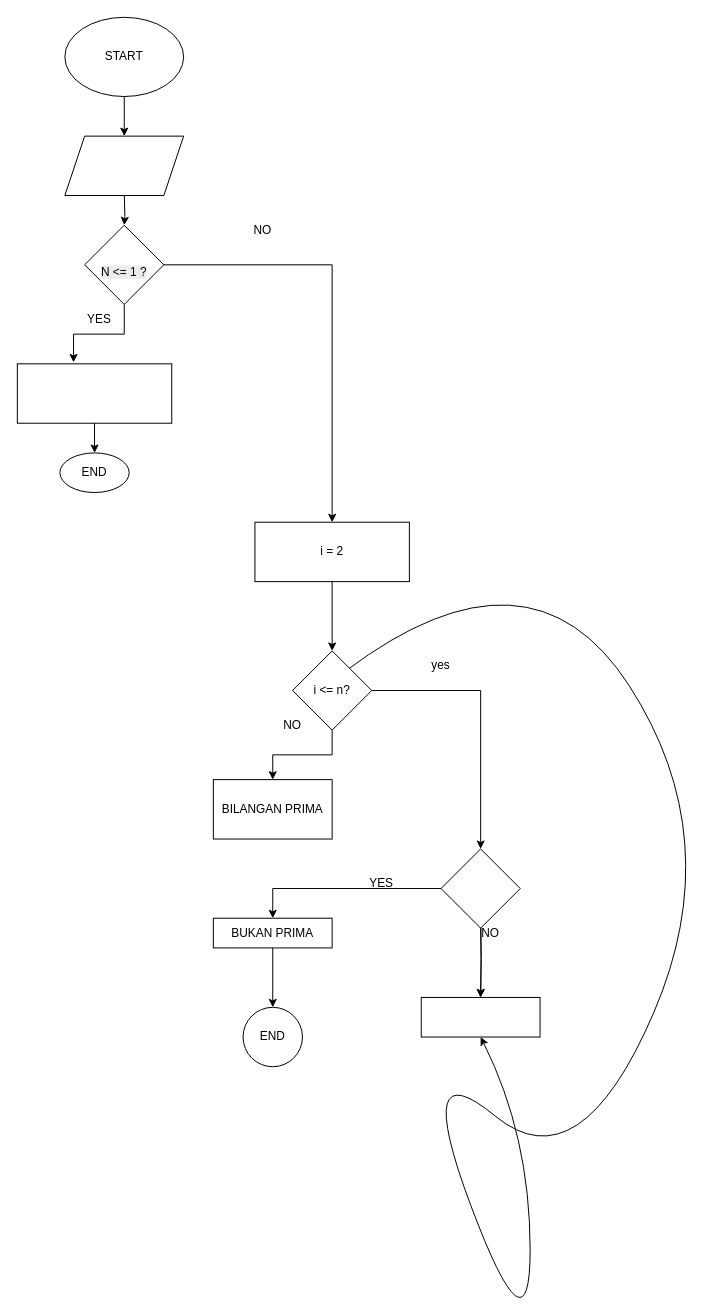
The diagram is 704 pixels wide and 1316 high, and some of its shapes have lost their labels. Here are the shapes that lost their labels. From the top down, the box of each, then its label:
(64, 135, 184, 196): INPUT N
(16, 363, 172, 423): BUKA PRIMA
(440, 848, 520, 928): N MOD i = 0 ?
(420, 996, 540, 1037): i = i + 1
